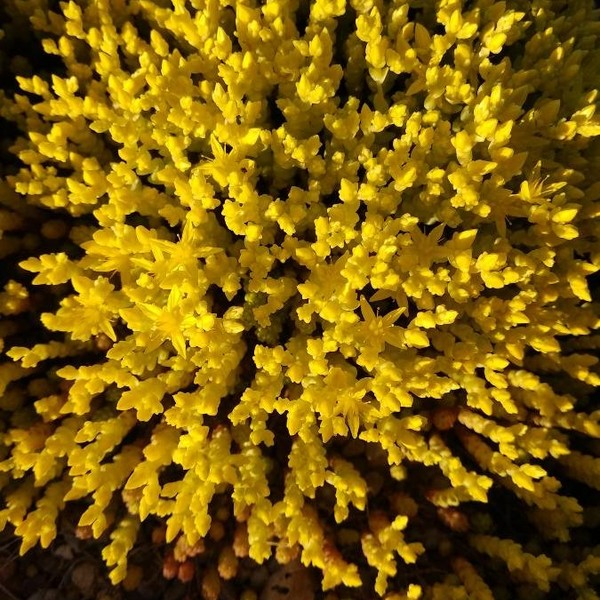obstacle: (61, 35, 463, 562)
